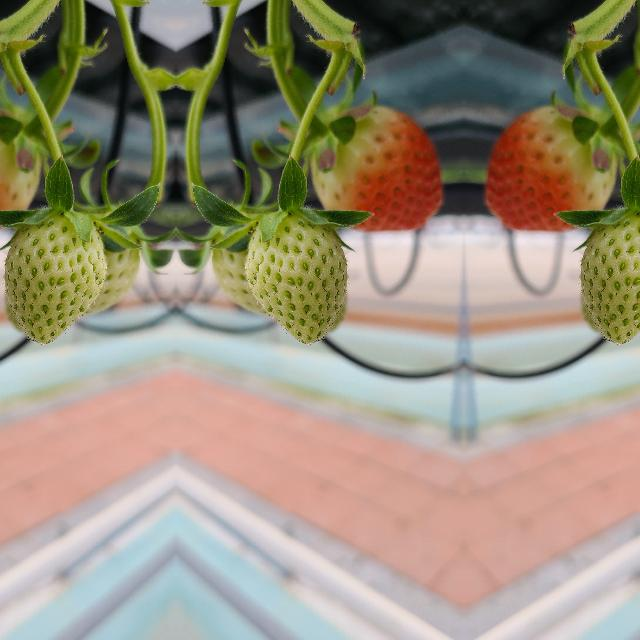Health_100: (300, 97, 442, 235), (484, 97, 626, 235), (0, 97, 49, 235)
Health_25: (244, 214, 346, 344), (4, 214, 106, 344), (206, 222, 284, 324), (66, 222, 144, 324), (580, 214, 640, 343)
